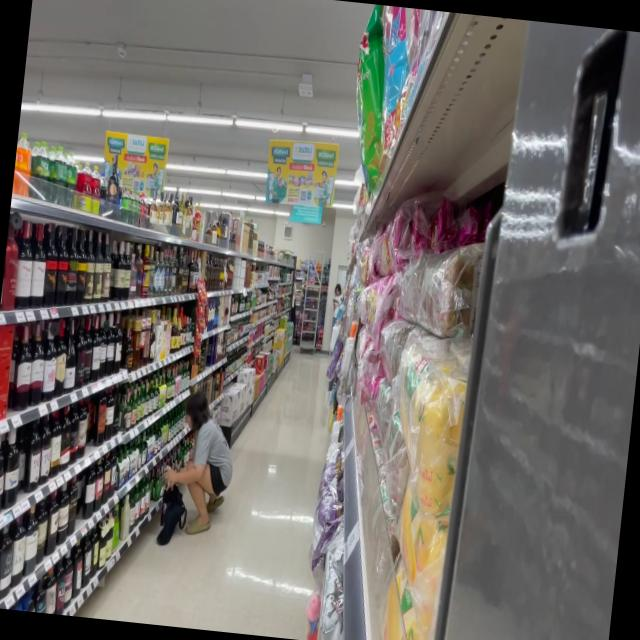shoplifting: (152, 390, 236, 550)
